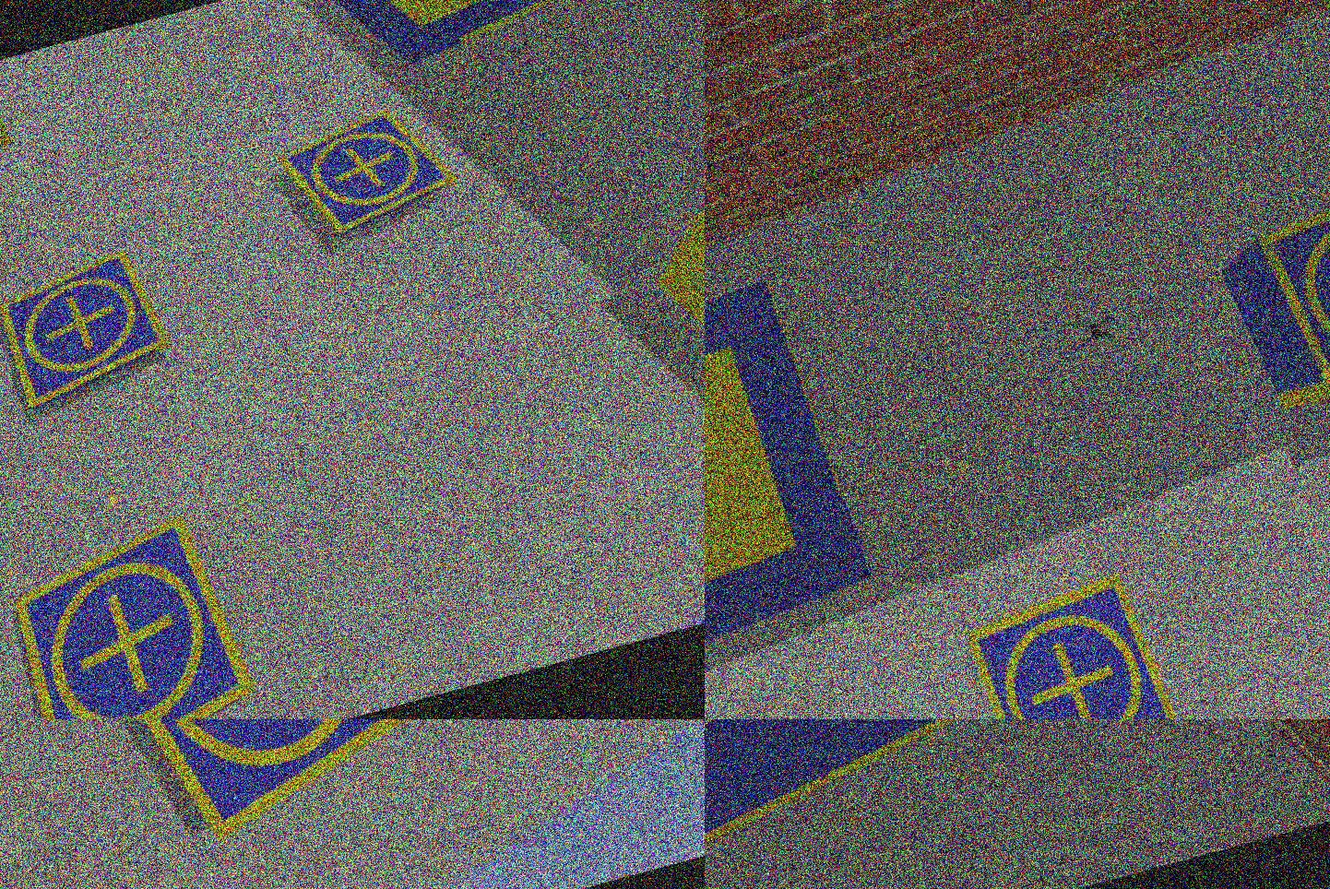large_base: (705, 267, 891, 720), (705, 720, 1102, 889), (303, 1, 617, 89)
small_base: (1, 509, 271, 720), (65, 720, 456, 859), (962, 573, 1196, 720), (1, 243, 179, 413), (276, 99, 465, 253), (1247, 163, 1330, 409)
